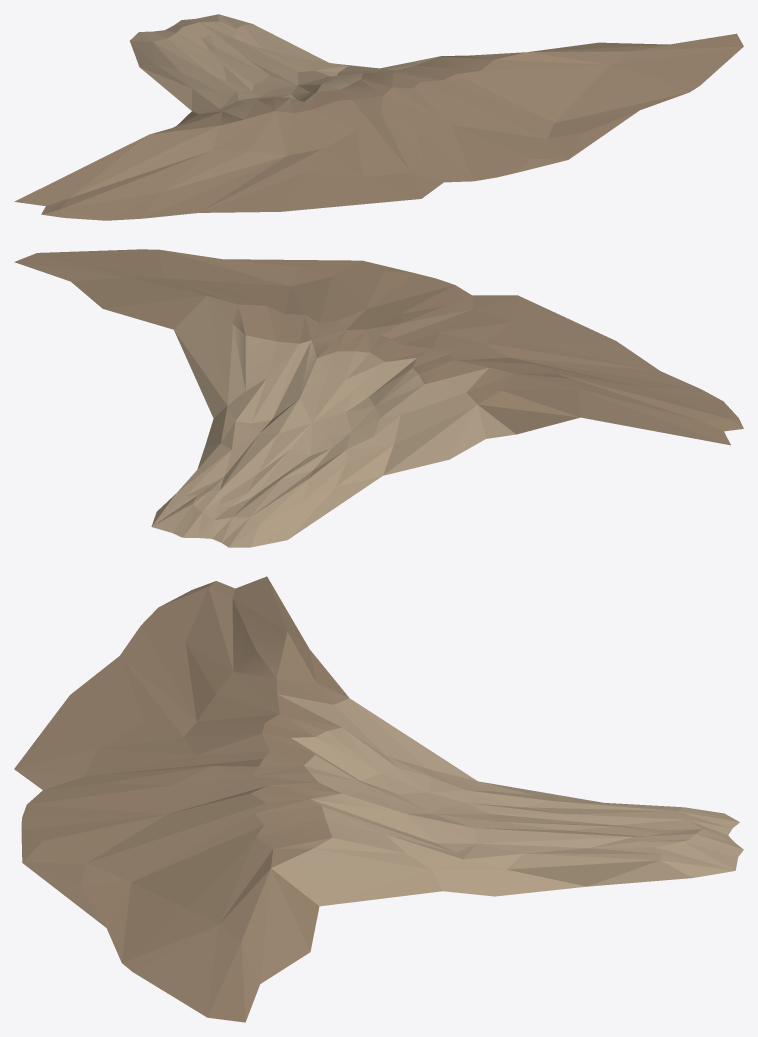
Rendered from SM_Env_DirtRoad_Exit_02.glb.
The picture shows the model from 3 angles, top to bottom: view 1: azimuth 30°, elevation 25°; view 2: azimuth 150°, elevation 25°; view 3: azimuth 270°, elevation 25°; orthographic projection. The views are drawn at different scales.
Parts seen in each view (by area): view 1: SM_Env_DirtRoad_Exit_02; view 2: SM_Env_DirtRoad_Exit_02; view 3: SM_Env_DirtRoad_Exit_02.
Part boxes in pixels (<box>): SM_Env_DirtRoad_Exit_02: <box>14,14,743,220</box>; SM_Env_DirtRoad_Exit_02: <box>14,249,743,547</box>; SM_Env_DirtRoad_Exit_02: <box>14,576,743,1022</box>.
Size of the model in its own units: 13.71 by 1.37 by 9.48.
Materials: 1 (1 with a texture image).
